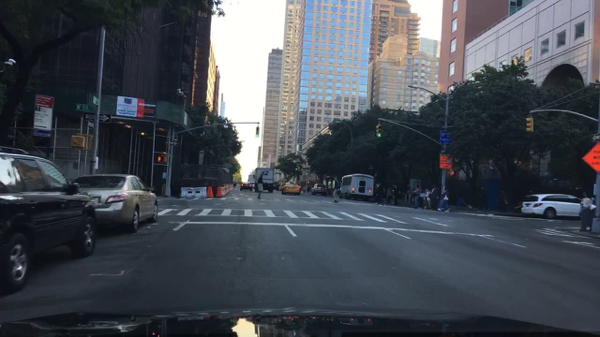bus: (337, 173, 374, 201)
car: (0, 146, 97, 296), (72, 173, 158, 235), (519, 192, 583, 221), (280, 178, 301, 197), (310, 183, 328, 197), (239, 181, 253, 192), (277, 181, 286, 191), (271, 180, 279, 191)
person: (579, 190, 594, 233), (436, 185, 451, 213), (427, 181, 440, 211), (330, 174, 342, 204), (373, 182, 386, 206), (256, 171, 266, 200), (420, 186, 431, 211), (412, 184, 422, 210), (390, 181, 400, 206), (384, 184, 394, 205)
traffic light: (72, 135, 87, 148), (524, 117, 534, 132), (254, 125, 259, 140), (157, 155, 166, 163), (375, 126, 380, 139), (377, 125, 381, 139), (447, 169, 455, 176), (295, 165, 298, 170)
traffic sign: (32, 94, 54, 138), (580, 144, 599, 174), (85, 112, 110, 122), (438, 130, 453, 144), (74, 103, 97, 112), (438, 155, 452, 167), (164, 140, 179, 147), (92, 97, 100, 108), (590, 134, 599, 143), (85, 120, 95, 128), (439, 148, 447, 154)
truck: (253, 167, 274, 194), (248, 174, 255, 191)
